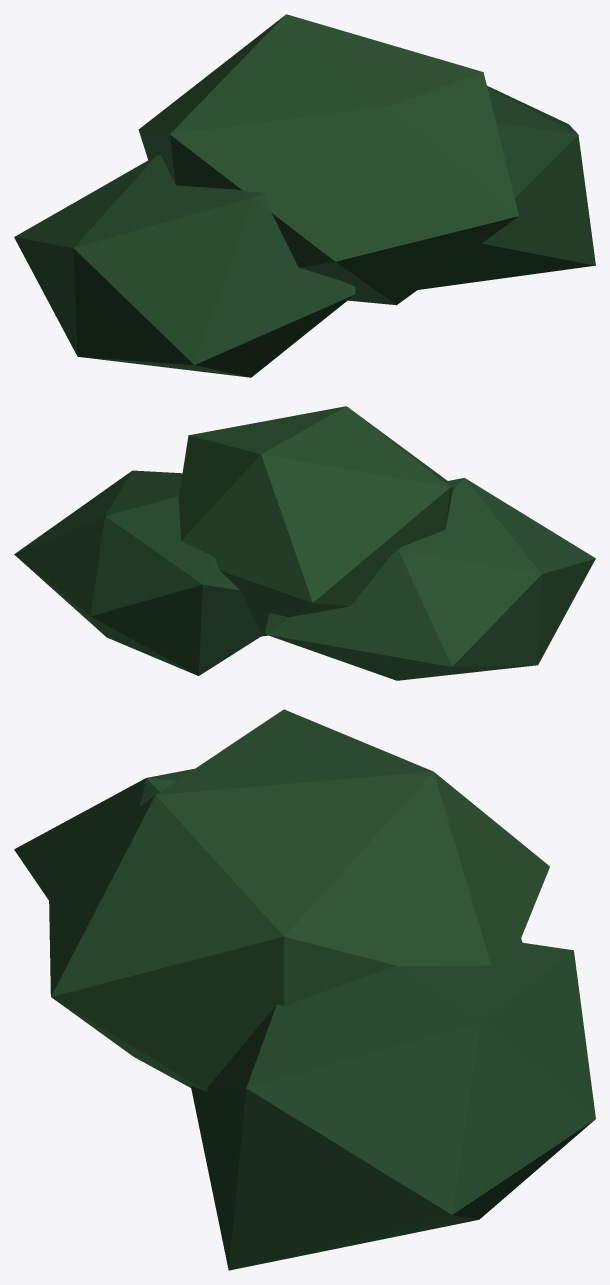
The model's file is mugo_far.glb.
3 renders of one model, top to bottom at view 1: azimuth 30°, elevation 25°; view 2: azimuth 150°, elevation 25°; view 3: azimuth 270°, elevation 25°, orthographic. The views are drawn at different scales.
Parts seen in each view (by area): view 1: mugo_far; view 2: mugo_far; view 3: mugo_far.
Part boxes in pixels (x1=…): mugo_far: x1=14, y1=14, x2=595, y2=377; mugo_far: x1=14, y1=406, x2=595, y2=680; mugo_far: x1=14, y1=709, x2=595, y2=1270.
Size of the model in its own units: 3.81 by 1.71 by 2.51.
